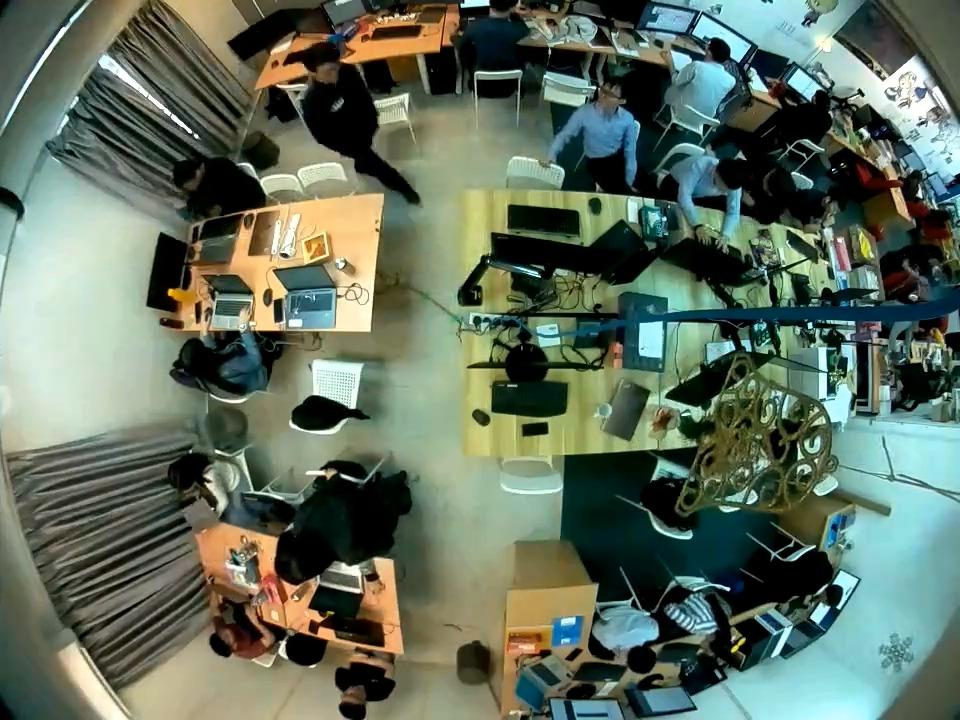name-tag: (326, 92, 348, 113)
